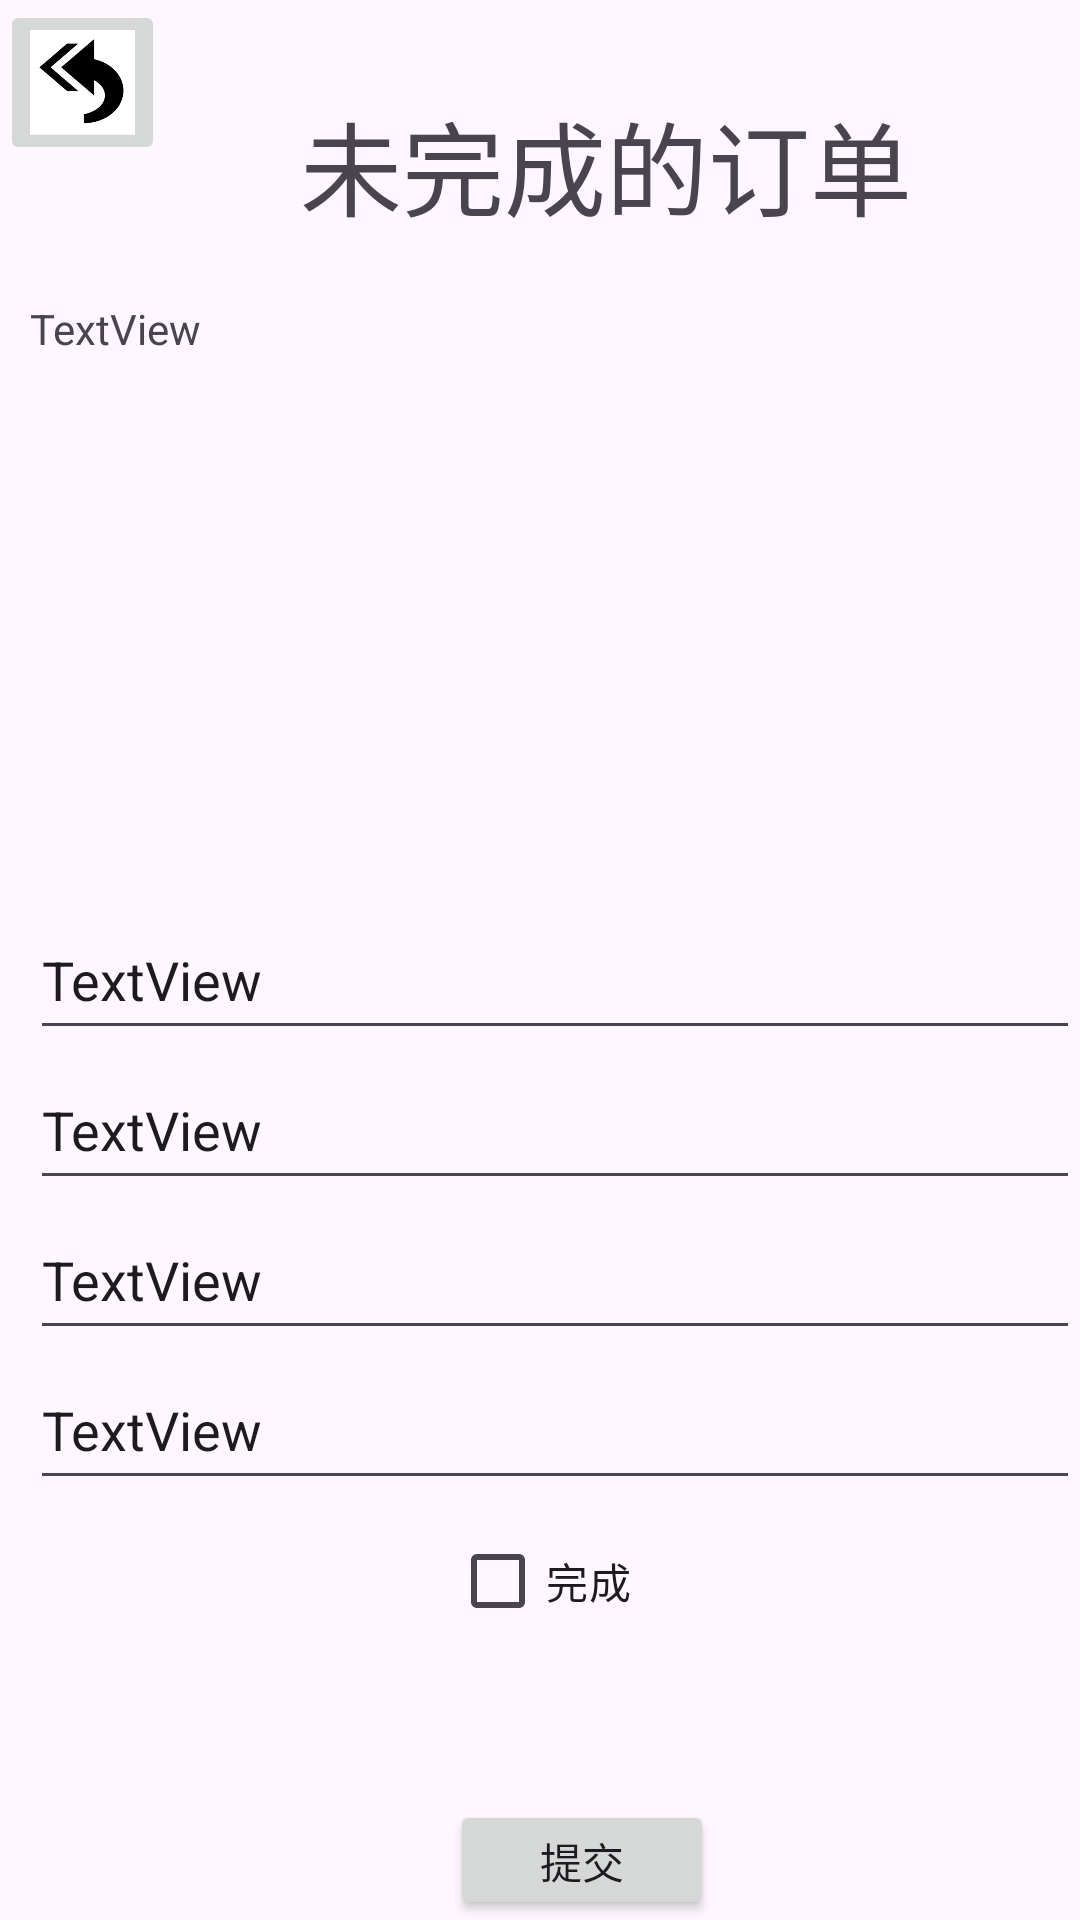

Named icons in this screenshot (1080px x 1920px) and their centers, point (x, y):
back: point (82, 82)
